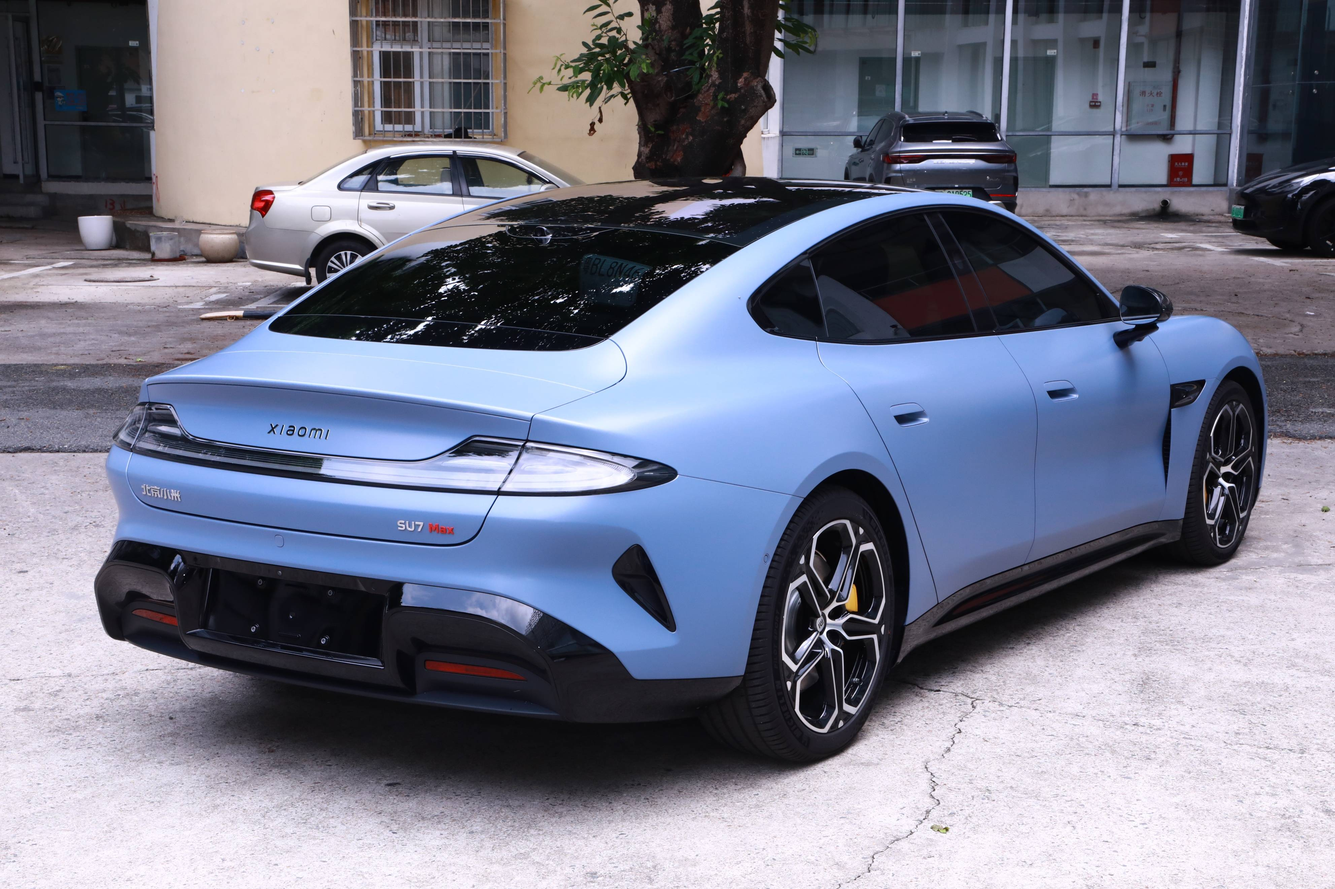other: (213, 142, 575, 287), (833, 99, 1017, 208), (1208, 156, 1335, 276)
su7: (92, 170, 1269, 758)
